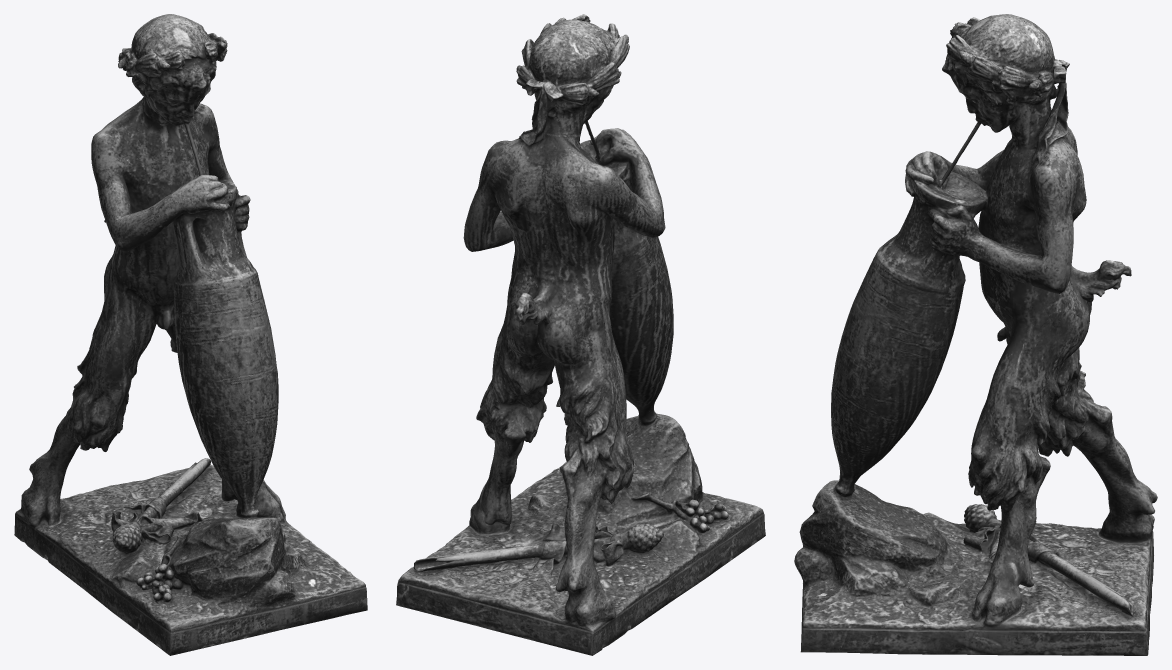
The model's file is satyr.glb.
The picture shows the model from 3 angles, left to right: view 1: azimuth 30°, elevation 25°; view 2: azimuth 150°, elevation 25°; view 3: azimuth 270°, elevation 25°; orthographic projection. The views are drawn at different scales.
Visible parts, largest first — view 1: Object_2; view 2: Object_2; view 3: Object_2.
Boxes of the visible parts, x1=… form: Object_2: x1=14, y1=14, x2=367, y2=655; Object_2: x1=396, y1=14, x2=765, y2=655; Object_2: x1=794, y1=14, x2=1157, y2=655.
Size of the model in its own units: 0.7056 by 1.82 by 1.03.
Materials: 1 (1 with a texture image).
